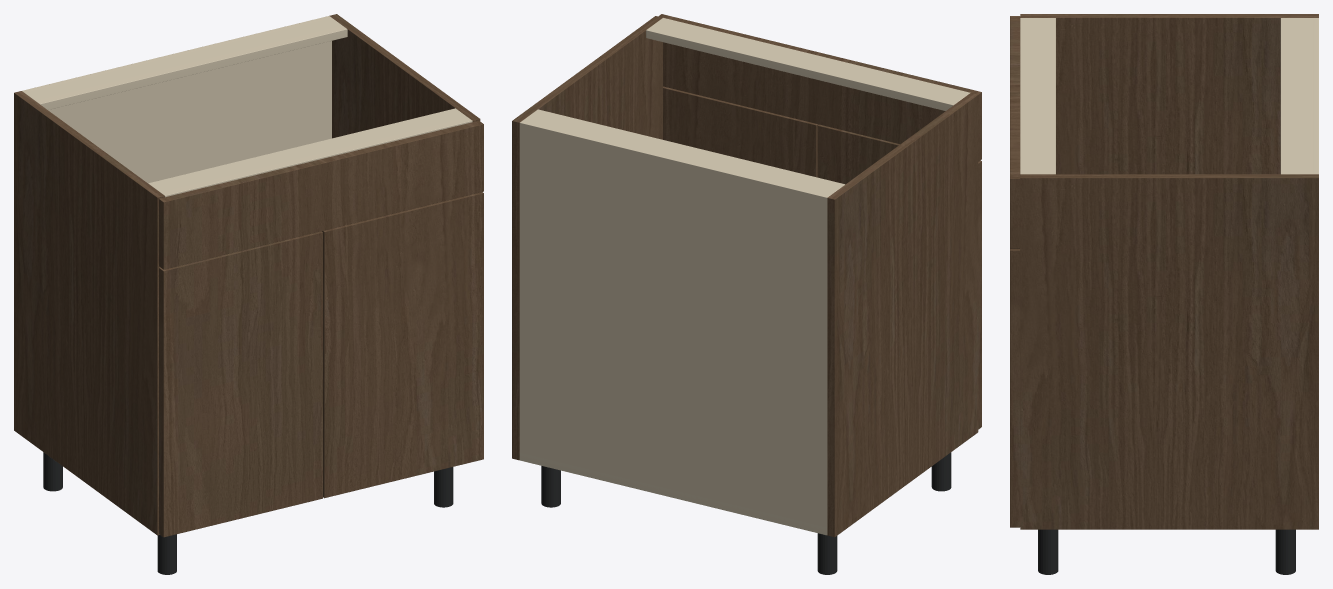
Rendered from oppein-ply-mso-sb30.glb.
3 renders of one model, left to right at view 1: azimuth 30°, elevation 25°; view 2: azimuth 150°, elevation 25°; view 3: azimuth 270°, elevation 25°, orthographic. The views are drawn at different scales.
Visible parts, largest first — view 1: Cabinet side, Door, Door.001, Cabinet back, False drawer front, Cabinet side.001, Top support rail, Top support rail.001, Adjustable foot.001, Adjustable foot.003, Adjustable foot; view 2: Cabinet back, Cabinet side, False drawer front, Cabinet side.001, Door.001, Top support rail.001, Top support rail, Door, Cabinet bottom, Adjustable foot, Adjustable foot.002, Adjustable foot.001; view 3: Cabinet side.001, Cabinet side, Top support rail.001, Top support rail, Door.001, False drawer front, Adjustable foot.003, Adjustable foot.002, Cabinet back.
Boxes of the visible parts, x1,y1,x2,y2 form: Cabinet side: (14,91,164,535); Door: (159,231,322,537); Door.001: (322,192,483,498); Cabinet back: (22,16,331,183); False drawer front: (159,120,483,269); Cabinet side.001: (329,14,480,138); Top support rail: (23,18,347,109); Top support rail.001: (148,108,472,197); Adjustable foot.001: (157,534,176,574); Adjustable foot.003: (434,467,453,507); Adjustable foot: (43,452,62,491); Cabinet back: (519,120,829,535); Cabinet side: (827,93,978,537); False drawer front: (658,14,981,161); Cabinet side.001: (512,16,662,460); Door.001: (663,86,818,177); Top support rail.001: (646,18,970,110); Top support rail: (523,109,844,195); Door: (817,124,981,429); Cabinet bottom: (520,453,826,534); Adjustable foot: (817,533,837,574); Adjustable foot.002: (541,466,560,507); Adjustable foot.001: (931,452,951,491); Cabinet side.001: (1020,174,1318,529); Cabinet side: (1020,14,1318,174); Top support rail.001: (1020,18,1055,174); Top support rail: (1280,18,1315,174); Door.001: (1010,249,1020,527); False drawer front: (1010,16,1020,248); Adjustable foot.003: (1038,529,1058,574); Adjustable foot.002: (1275,529,1295,574); Cabinet back: (1313,18,1318,174).
Bounding box in the file's own units: 0.762 × 0.8763 × 0.6064.
Materials: 3 (1 with a texture image).
